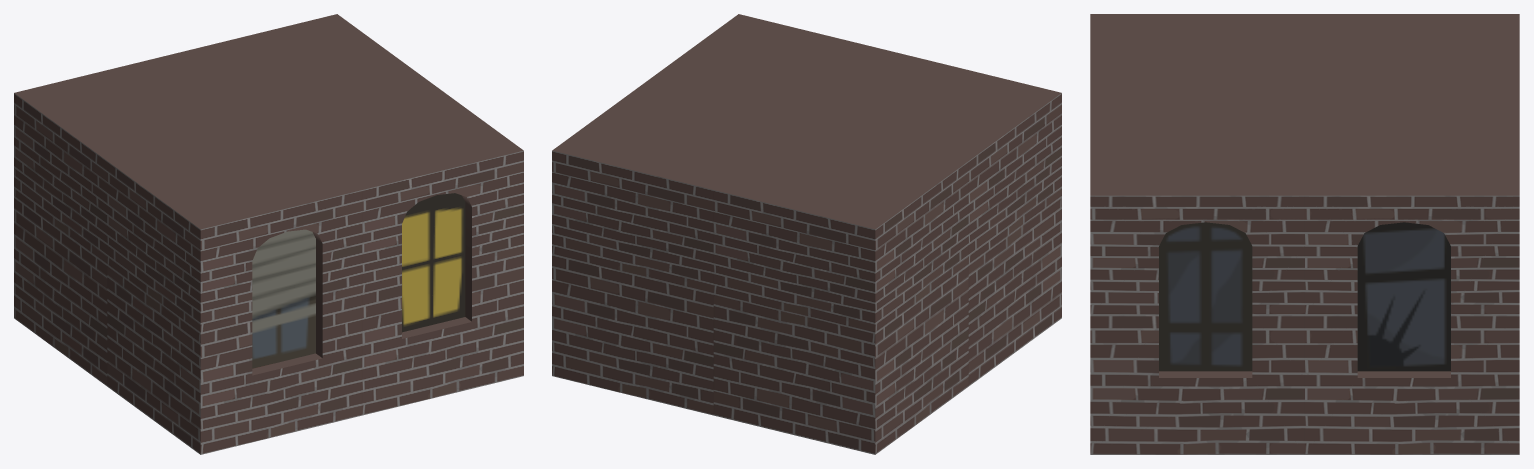
Rendered from Bock_E4.fbx.
3 views of the same model, side by side, from view 1: azimuth 30°, elevation 25°; view 2: azimuth 150°, elevation 25°; view 3: azimuth 270°, elevation 25° (orthographic). The views are drawn at different scales.
Parts seen in each view (by area): view 1: Bock_E4; view 2: Bock_E4; view 3: Bock_E4.
Part boxes in pixels (x1,y1,x2,y2): Bock_E4: [14, 14, 523, 454]; Bock_E4: [552, 14, 1061, 454]; Bock_E4: [1090, 14, 1519, 454].
Size of the model in its own units: 600 by 400 by 600.
